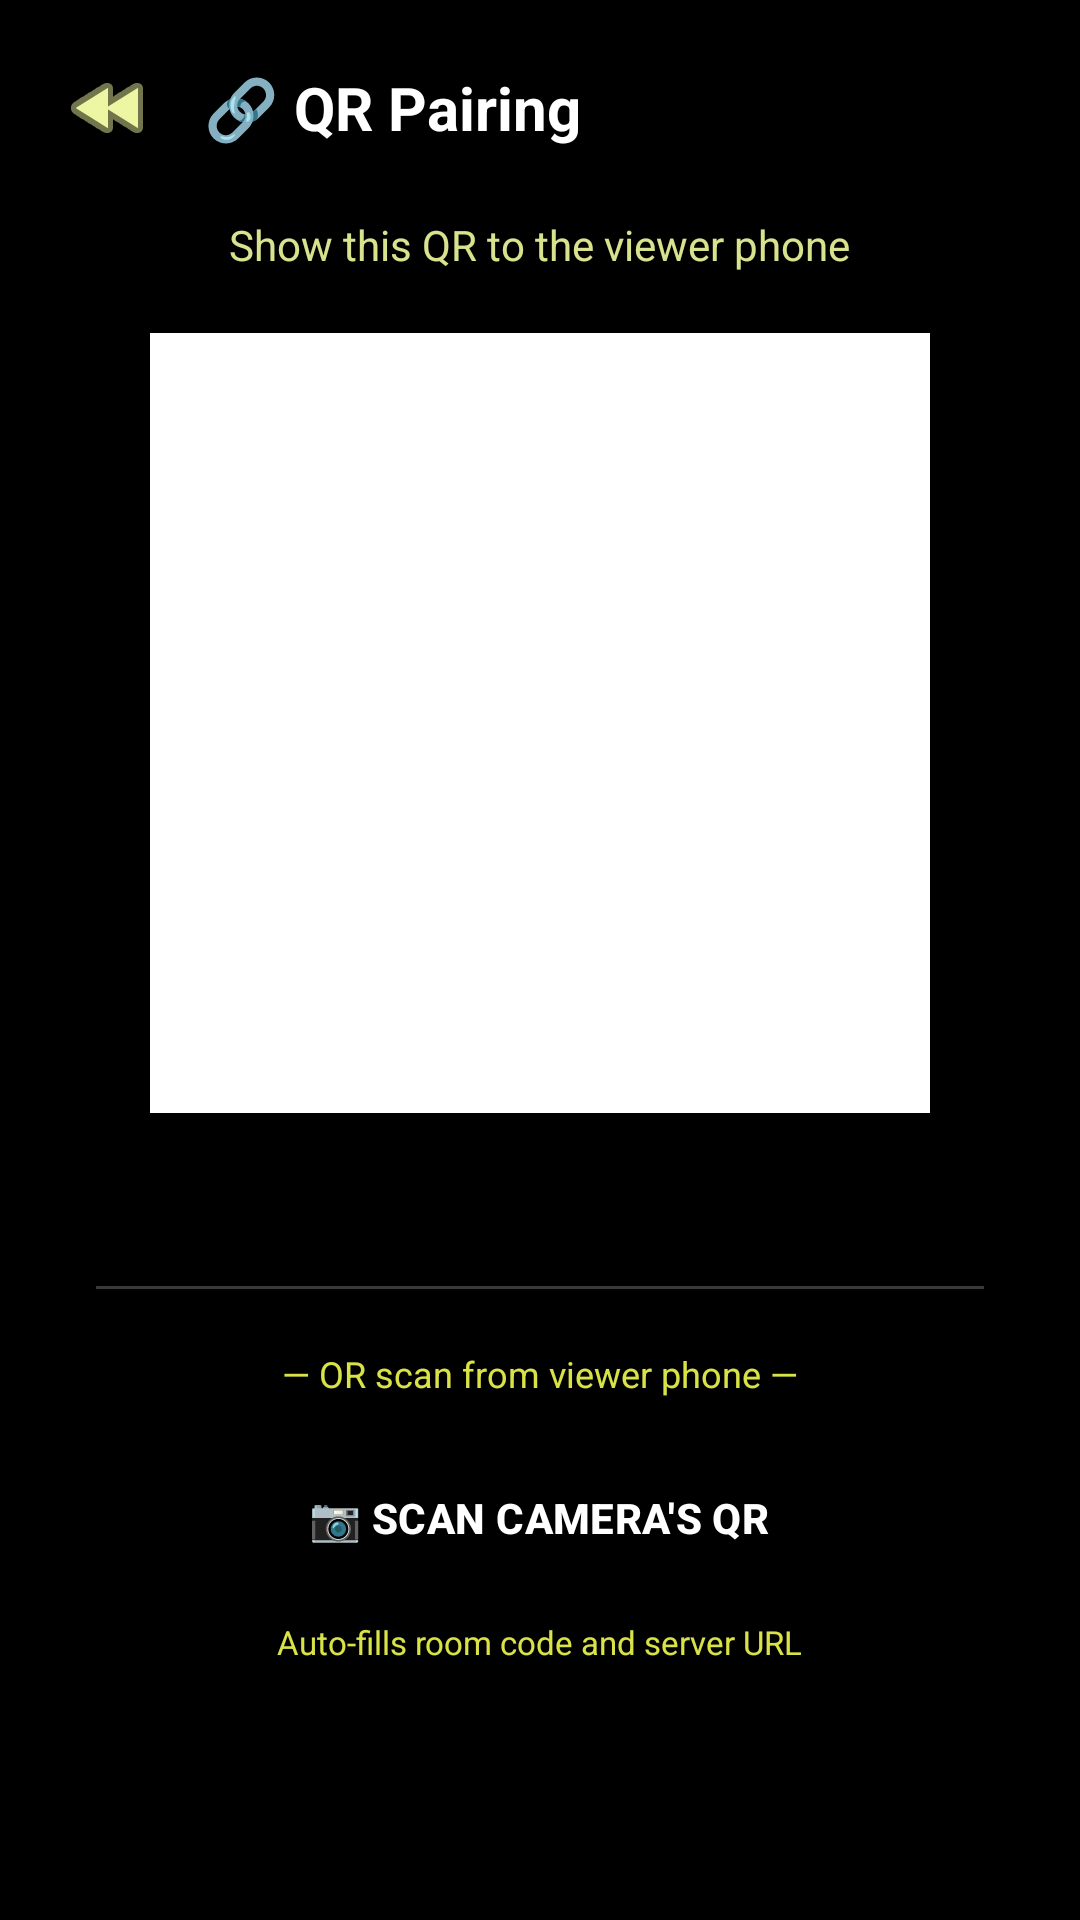

Named icons in this screenshot (1080*1920) and their bounding boxes, (x1, y1, x2, y2):
Back: (71, 83, 143, 133)
